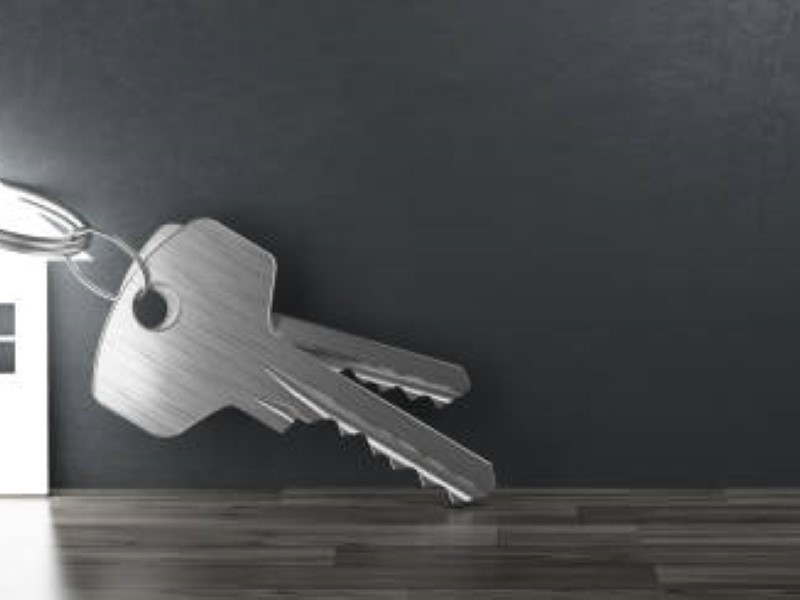key: (92, 214, 497, 510)
